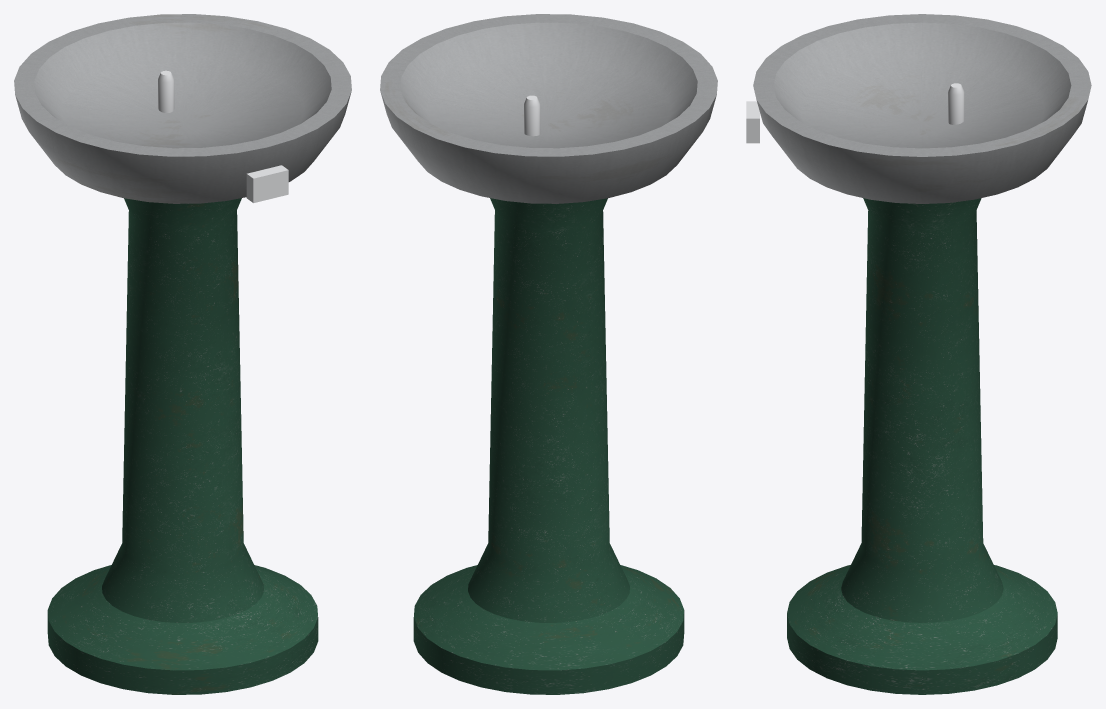
File: SM_QUE_WaterFountain.fbx
The picture shows the model from 3 angles, left to right: view 1: azimuth 30°, elevation 25°; view 2: azimuth 150°, elevation 25°; view 3: azimuth 270°, elevation 25°; orthographic projection.
Visible parts, largest first — view 1: SM_QUE_WaterFountain; view 2: SM_QUE_WaterFountain; view 3: SM_QUE_WaterFountain.
Boxes of the visible parts, left/top/right/bottom form: SM_QUE_WaterFountain: left=14, top=14, right=351, bottom=694; SM_QUE_WaterFountain: left=380, top=14, right=717, bottom=694; SM_QUE_WaterFountain: left=746, top=14, right=1091, bottom=694.
Size of the model in its own units: 0.5 by 0.9 by 0.51.
